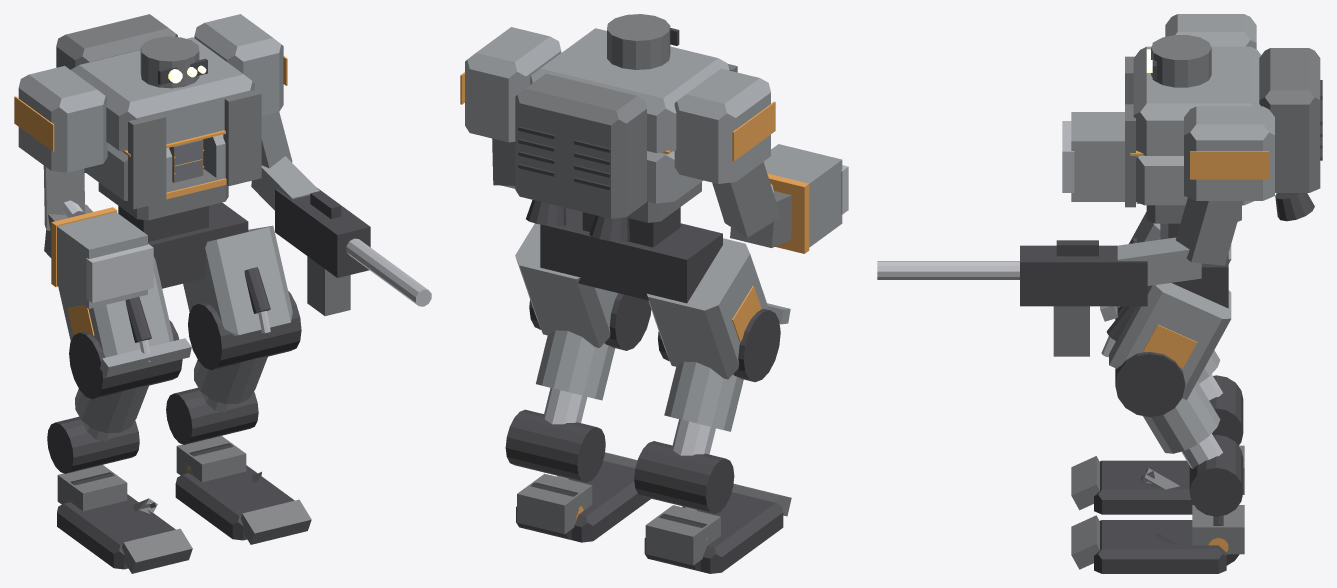
File: roustabout.glb
3 renders of one model, left to right at view 1: azimuth 30°, elevation 25°; view 2: azimuth 150°, elevation 25°; view 3: azimuth 270°, elevation 25°, orthographic. The views are drawn at different scales.
Visible parts, largest first — view 1: chest_upper, thigh1, shoulder-1, thigh-1, receiver, shoulder1, punch, foot1_sole, knee1, foot-1_sole, hips, backpack (+28 smaller); view 2: backpack, hips, thigh-1, shoulder-1, chest_upper, shoulder1, thigh1, hock-1, hock1, foot-1_sole, punch, shin1 (+23 smaller); view 3: chest_upper, backpack, receiver, shoulder1, thigh1, foot1_sole, foot-1_sole, punch, knee1, upper1, hock1, shin1 (+20 smaller).
Boxes of the visible parts, <box> form: chest_upper: <box>71,37,254,151</box>; thigh1: <box>183,225,292,335</box>; shoulder-1: <box>18,66,107,172</box>; thigh-1: <box>58,256,191,377</box>; receiver: <box>275,188,370,277</box>; shoulder1: <box>194,14,283,115</box>; punch: <box>57,212,147,308</box>; foot1_sole: <box>175,465,294,540</box>; knee1: <box>188,291,301,370</box>; foot-1_sole: <box>57,494,175,569</box>; hips: <box>148,202,248,288</box>; backpack: <box>56,14,177,69</box>; backpack: <box>515,73,646,218</box>; hips: <box>540,208,722,303</box>; thigh-1: <box>647,238,790,379</box>; shoulder-1: <box>674,68,770,183</box>; chest_upper: <box>530,28,729,153</box>; shoulder1: <box>465,27,561,142</box>; thigh1: <box>515,223,618,347</box>; hock-1: <box>634,441,734,513</box>; hock1: <box>505,409,605,482</box>; foot-1_sole: <box>644,492,783,573</box>; punch: <box>764,144,842,247</box>; shin1: <box>536,330,615,400</box>; chest_upper: <box>1133,46,1261,155</box>; backpack: <box>1259,48,1320,192</box>; receiver: <box>1020,245,1147,306</box>; shoulder1: <box>1184,106,1274,200</box>; thigh1: <box>1109,283,1231,399</box>; foot1_sole: <box>1094,520,1226,573</box>; foot-1_sole: <box>1094,460,1193,514</box>; punch: <box>1071,112,1124,201</box>; knee1: <box>1115,352,1185,417</box>; upper1: <box>1176,197,1243,265</box>; hock1: <box>1189,434,1243,516</box>; shin1: <box>1143,381,1220,453</box>.
Size of the model in its own units: 15.51 by 26.57 by 22.17.
